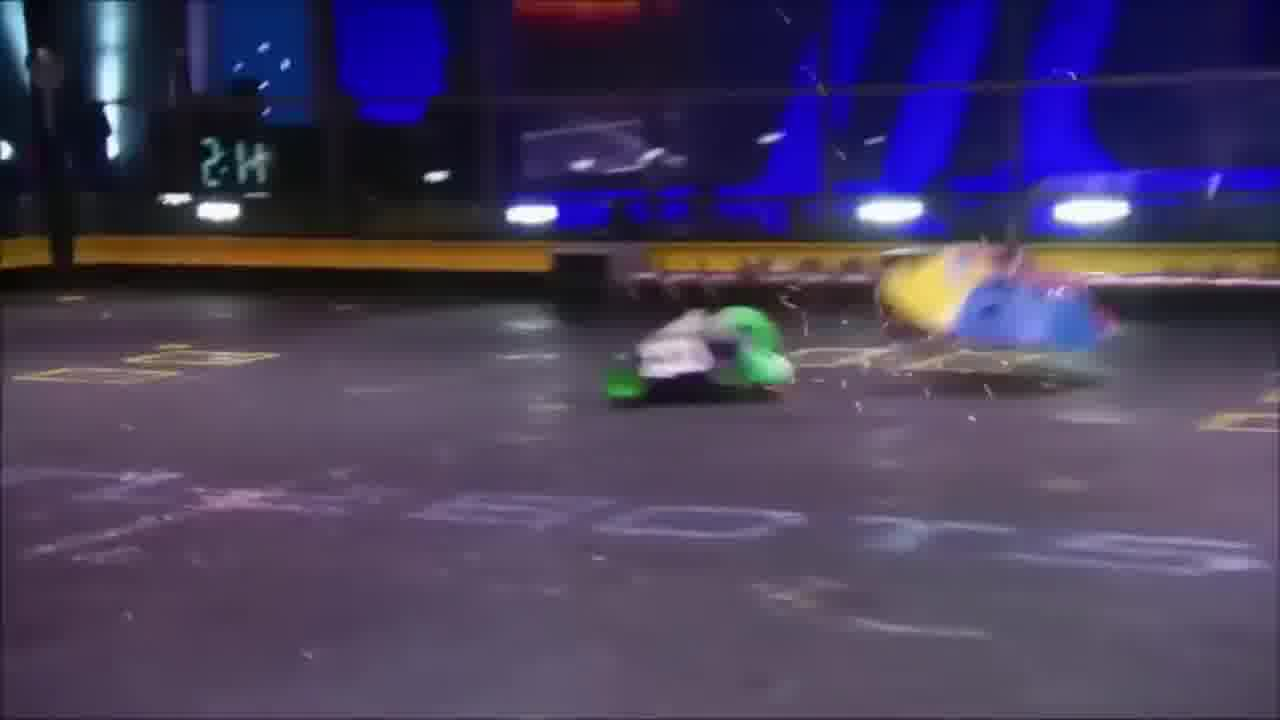combatbot: (870, 217, 1110, 386), (606, 304, 797, 412)
